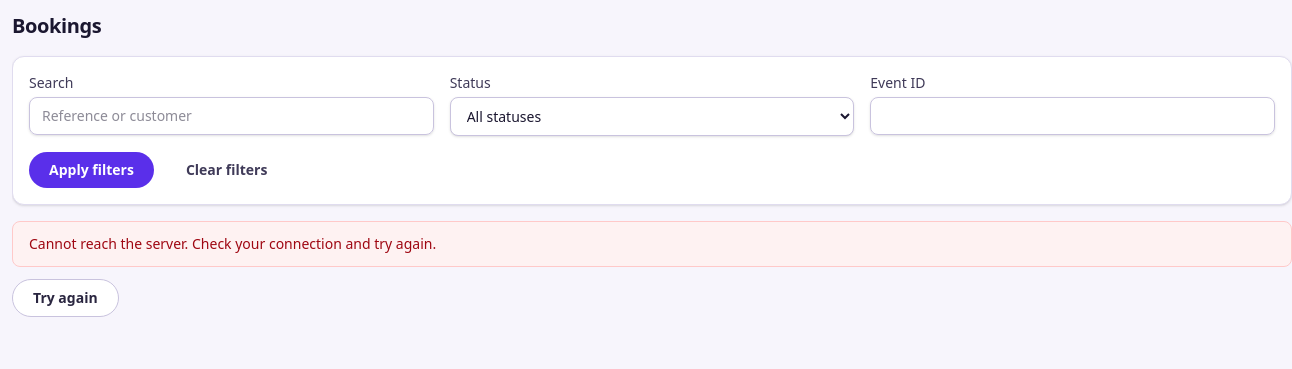
Test: AdminBookingsPage › shows a friendly error and lets the person try again
The width and height of the screenshot is (1292, 369).
Expected: the message shows "Cannot reach the server", [29,234,436,253]
Click the button "Try again" at [65, 298], box [12,279,119,317]
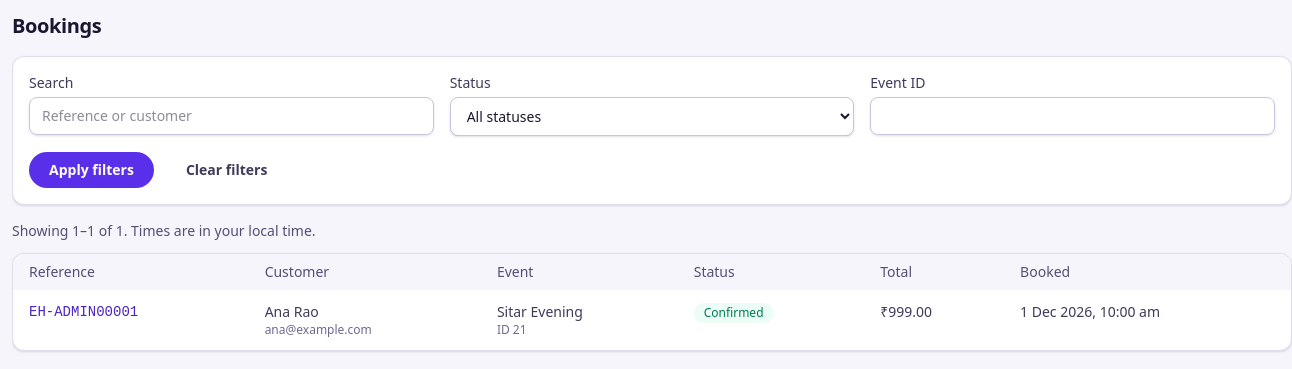
Now the row "EH-ADMIN00001" is shown, box [13,290,1291,350]
